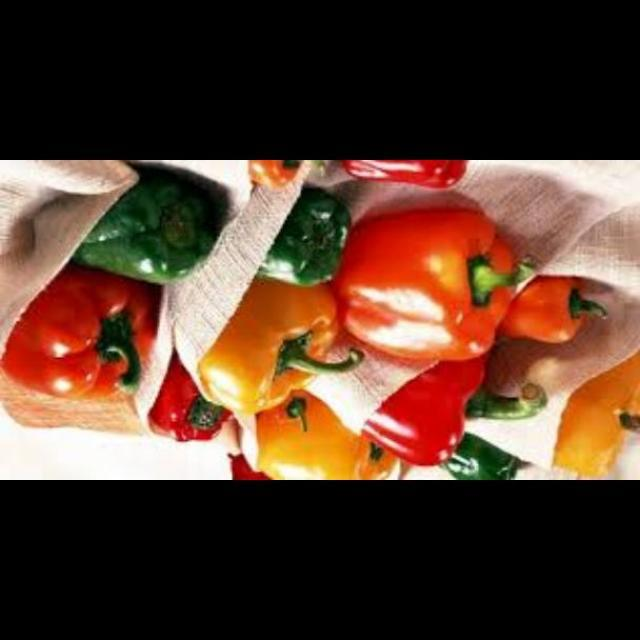Bell Pepper: (327, 200, 528, 364), (192, 282, 351, 421), (1, 270, 157, 410), (358, 352, 518, 470), (69, 174, 222, 294), (243, 384, 395, 481), (243, 187, 355, 295), (551, 352, 640, 481), (499, 264, 615, 356), (139, 368, 234, 451), (338, 160, 481, 200), (435, 434, 527, 482), (249, 161, 313, 195)
